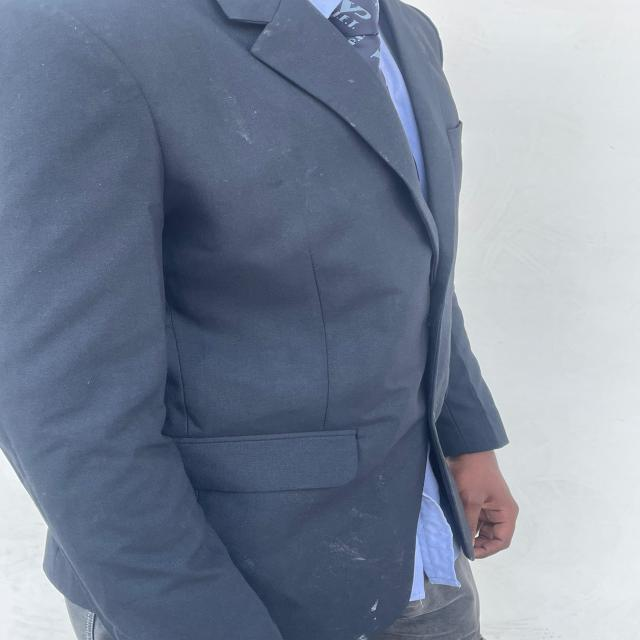Tie: (326, 0, 475, 567)
uniform: (1, 0, 510, 639)
